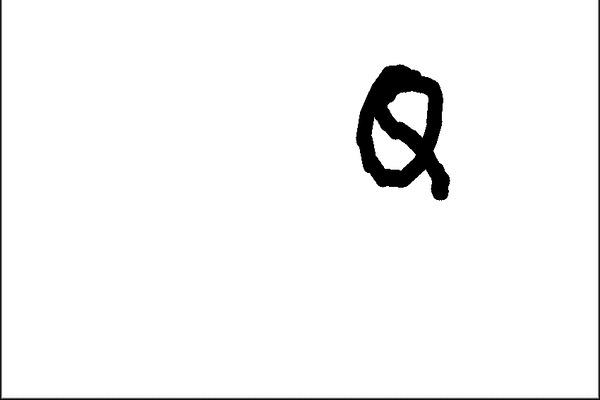Q: (347, 56, 453, 204)
